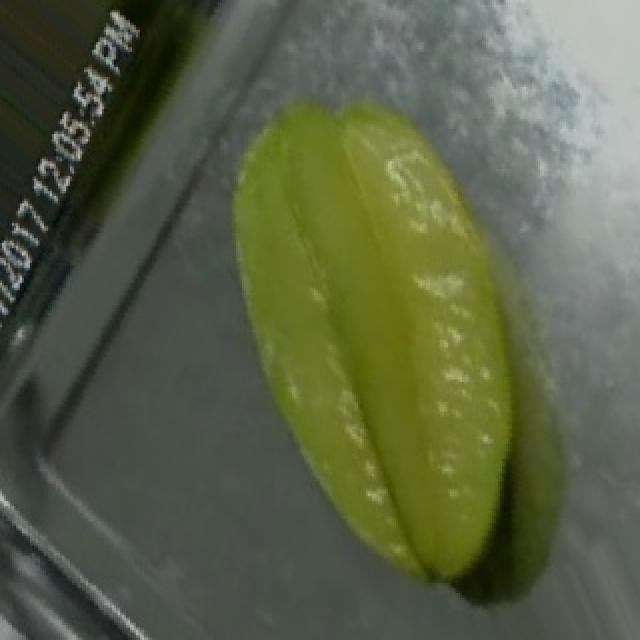fruit: (186, 45, 566, 511)
